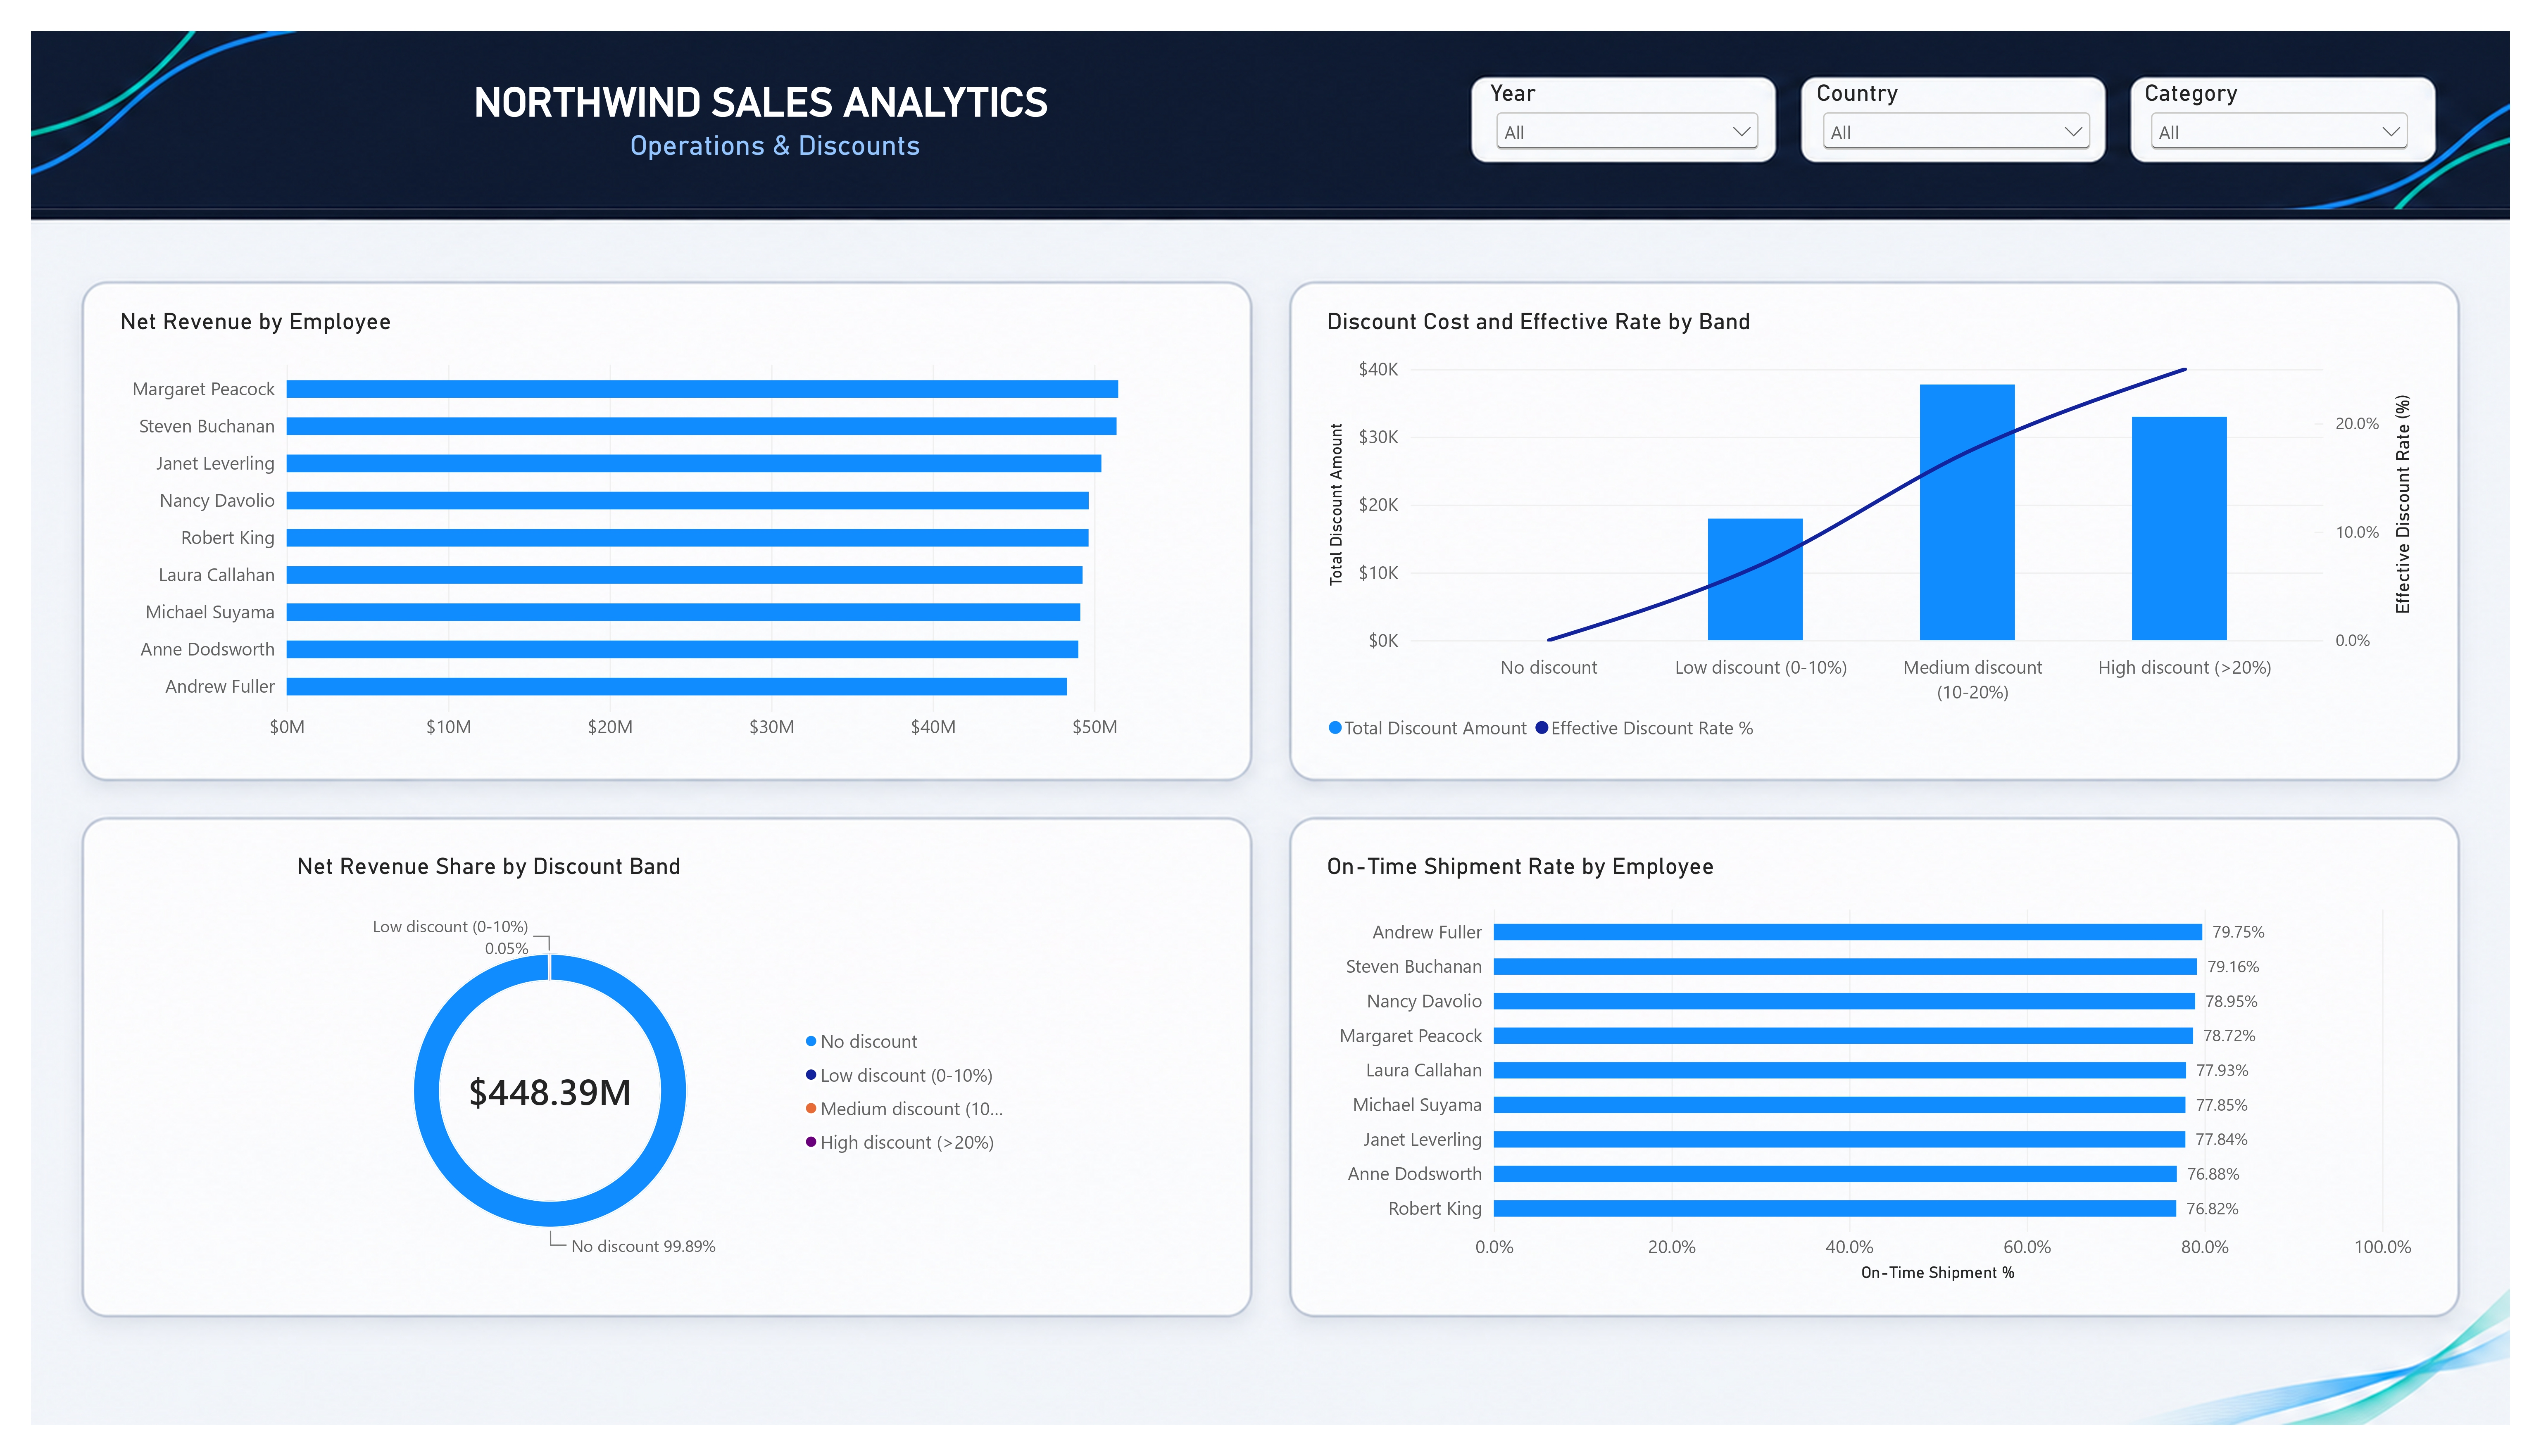

What the dashboard file says about the page in this screenshot:
{"tool":"powerbi","page":{"name":"Operations & Discounts","canvas":[1920,1080],"ordinal":2},"visuals":[{"type":"clusteredBarChart","title":"Net Revenue by Employee","fields":{"Category":["DimEmployee.EmployeeFullName"],"Y":["_Measures.Total Net Revenue"]},"box":[53.3,200,866.7,370],"z":0},{"type":"lineClusteredColumnComboChart","title":"Discount Cost and Effective Rate by Band","fields":{"Category":["DimDiscountBand.Discount Band"],"Y":["_Measures.Total Discount Amount"],"Y2":["_Measures.Effective Discount Rate %"]},"box":[988.3,200,871.7,370],"z":1000},{"type":"donutChart","title":"Net Revenue Share by Discount Band","fields":{"Category":["DimDiscountBand.Discount Band"],"Y":["_Measures.Total Net Revenue"]},"box":[190,621.7,593.3,363.3],"z":2000},{"type":"clusteredBarChart","title":"On-Time Shipment Rate by Employee","fields":{"Category":["DimEmployee.EmployeeFullName"],"Y":["_Measures.On-Time Shipment %"]},"box":[988.3,621.7,871.7,363.3],"z":3000},{"type":"slicer","title":"Year","fields":{"Values":["DimDate.Year"]},"box":[1130,37.1,212.9,94.3],"z":3001},{"type":"slicer","title":"Country","fields":{"Values":["DimCustomer.CustomerCountry"]},"box":[1382.9,37.1,217.1,77.1],"z":3002},{"type":"slicer","title":"Category","fields":{"Values":["DimProduct.CategoryName"]},"box":[1637.1,37.1,208.6,77.1],"z":3003},{"type":"textbox","title":"Operations & Discounts","box":[463.8,76.2,237.5,27.5],"z":3004},{"type":"textbox","title":"NORTHWIND SALES ANALYTICS","box":[343.3,36.7,478.3,38.3],"z":3005}]}

Visuals, with their boxes on the page's 1920x1080 design canvas (x1, y1, x2, y2). These are canvas units, not pixel positions in the 2541x1456 screenshot, which may show the page scaled, cropped or inside an application window:
"Net Revenue by Employee" clusteredBarChart: select_region(53, 200, 920, 570)
"Discount Cost and Effective Rate by Band" lineClusteredColumnComboChart: select_region(988, 200, 1860, 570)
"Net Revenue Share by Discount Band" donutChart: select_region(190, 622, 783, 985)
"On-Time Shipment Rate by Employee" clusteredBarChart: select_region(988, 622, 1860, 985)
"Year" slicer: select_region(1130, 37, 1343, 131)
"Country" slicer: select_region(1383, 37, 1600, 114)
"Category" slicer: select_region(1637, 37, 1846, 114)
"Operations & Discounts" textbox: select_region(464, 76, 701, 104)
"NORTHWIND SALES ANALYTICS" textbox: select_region(343, 37, 822, 75)
